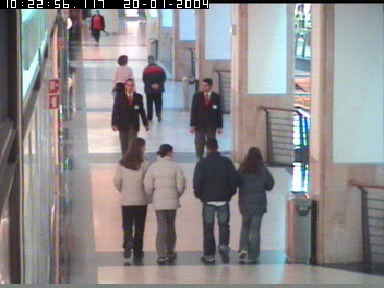person: (192, 138, 237, 265), (143, 144, 187, 262), (110, 139, 152, 260), (234, 148, 272, 264), (110, 77, 149, 157), (188, 78, 222, 164), (143, 54, 166, 119), (111, 53, 132, 102), (89, 8, 103, 42), (67, 16, 73, 53)
